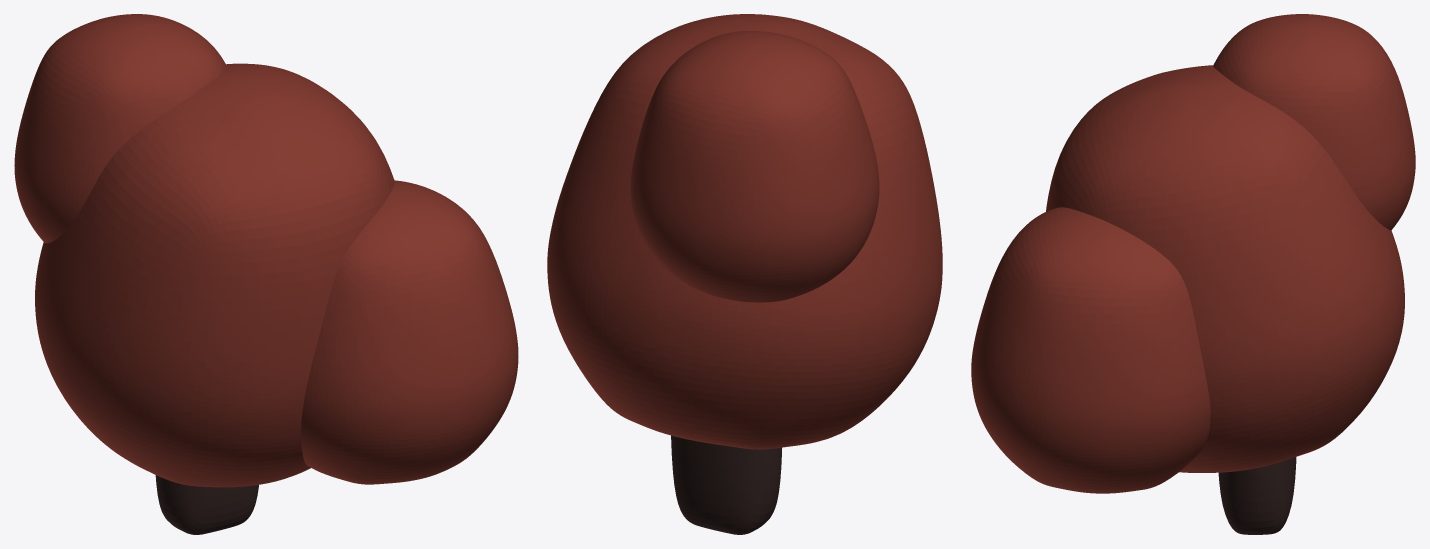
File: tripleorangetree.fbx
3 renders of one model, left to right at view 1: azimuth 30°, elevation 25°; view 2: azimuth 150°, elevation 25°; view 3: azimuth 270°, elevation 25°, orthographic. The views are drawn at different scales.
Visible parts, largest first — view 1: Roundcube.015, Roundcube.018, Roundcube.017, Roundcube.016; view 2: Roundcube.015, Roundcube.017, Roundcube.016; view 3: Roundcube.015, Roundcube.018, Roundcube.017, Roundcube.016.
Boxes of the visible parts, x1=… form: Roundcube.015: x1=35, y1=63, x2=394, y2=487; Roundcube.018: x1=301, y1=180, x2=518, y2=484; Roundcube.017: x1=14, y1=14, x2=226, y2=243; Roundcube.016: x1=155, y1=475, x2=258, y2=534; Roundcube.015: x1=547, y1=14, x2=942, y2=449; Roundcube.017: x1=630, y1=31, x2=879, y2=302; Roundcube.016: x1=671, y1=435, x2=781, y2=534; Roundcube.015: x1=1046, y1=65, x2=1404, y2=472; Roundcube.018: x1=971, y1=207, x2=1210, y2=493; Roundcube.017: x1=1213, y1=14, x2=1415, y2=230; Roundcube.016: x1=1218, y1=457, x2=1296, y2=534.
Size of the model in its own units: 171 by 216 by 184.
